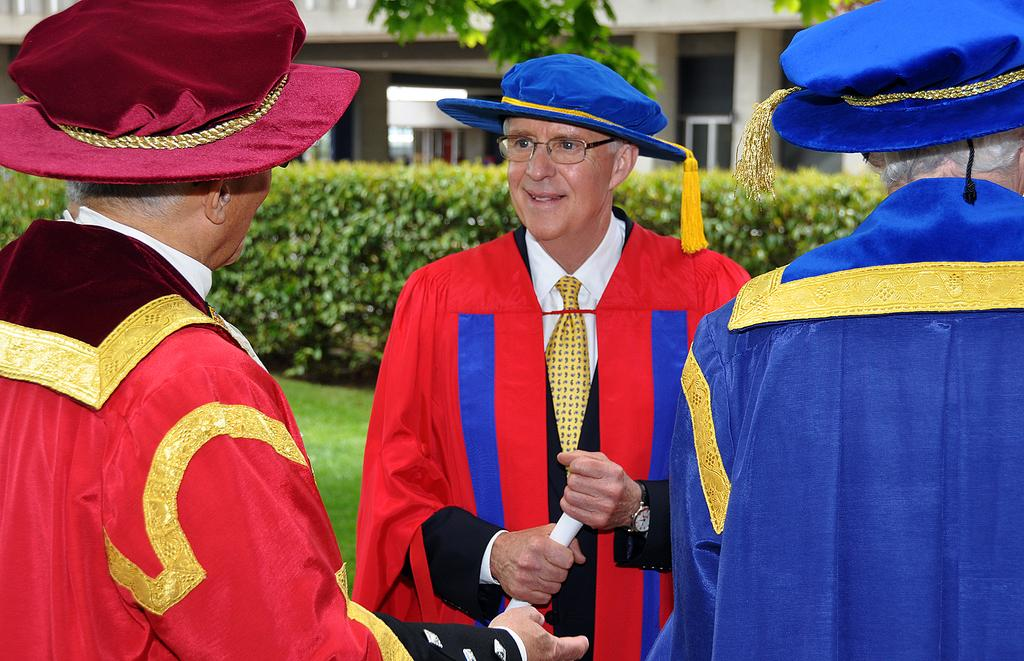Hat: (0, 0, 361, 187), (732, 0, 1022, 213), (434, 50, 710, 252)
